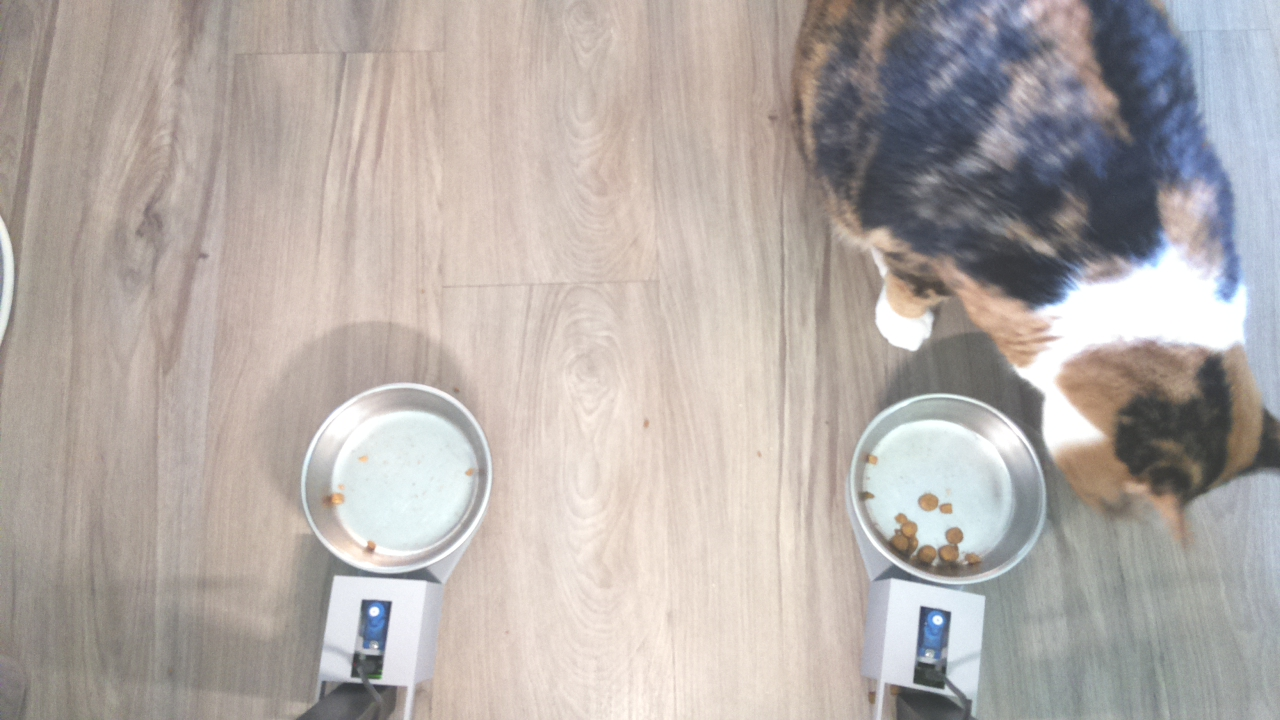bella: (1043, 314, 1280, 511)
open_bowl: (839, 387, 1051, 584), (299, 378, 495, 575)
